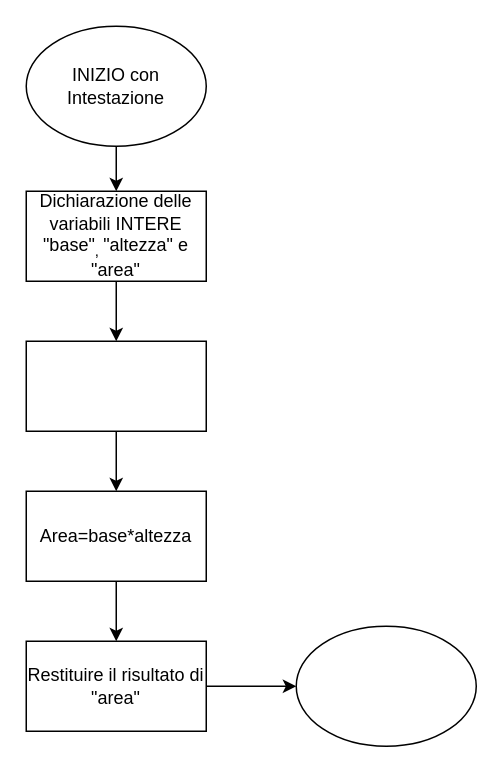
This 503x773 diagram has some shape labels left out. The shapes that lost their labels are listed below. From the top down, each one's centre as x and y in pixels, then its label:
(x=115, y=385): Chiedere di inserire il valore INTERO di "base" e "altezza"
(x=385, y=685): FINE
